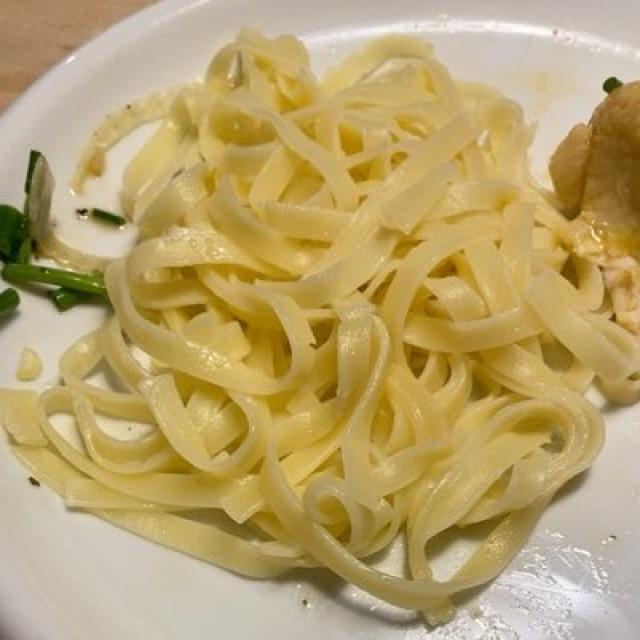pasta: (12, 33, 630, 606)
